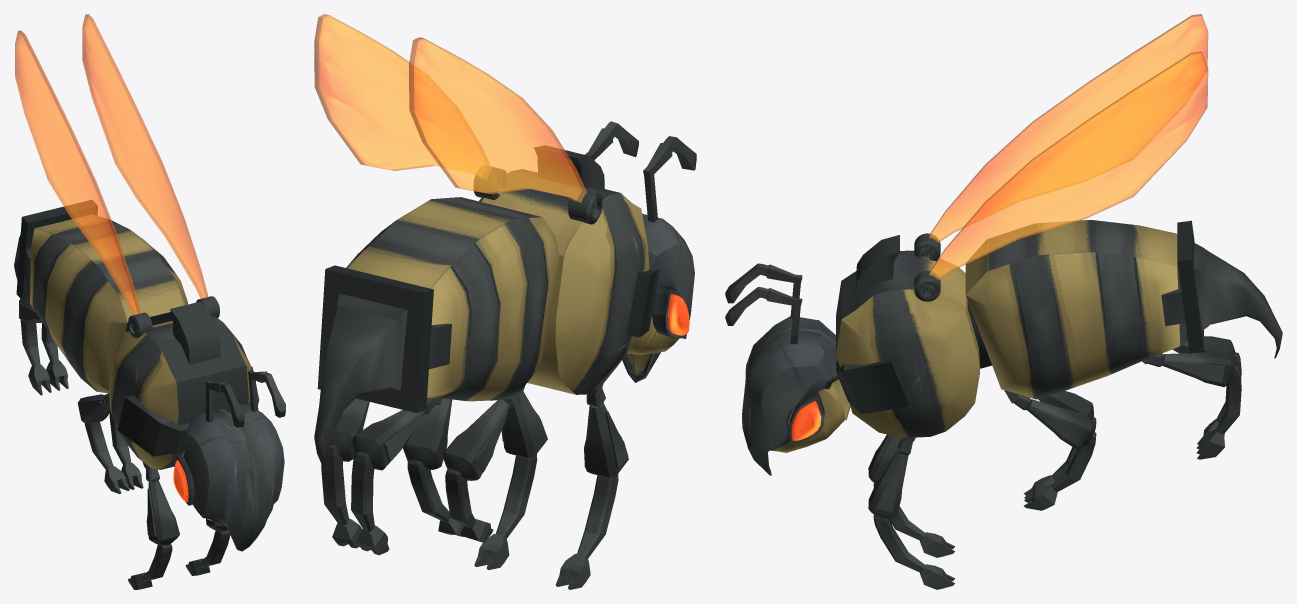
File: REAL BEE.fbx
3 views of the same model, side by side, from view 1: azimuth 30°, elevation 25°; view 2: azimuth 150°, elevation 25°; view 3: azimuth 270°, elevation 25° (orthographic). The views are drawn at different scales.
Parts seen in each view (by area): view 1: 1lowerbody, 1wings, 1torsp, 1head, 3legl, 4legl, 2antenna, 5legl, 3legr, 4legr, 5legr; view 2: 1lowerbody, 1wings, 1torsp, 1head, 3legl, 5legl, 3legr, 4legl, 4legr, 5legr, 2antenna; view 3: 1lowerbody, 1wings, 1torsp, 1head, 4legr, 3legr, 5legr, 2antenna, 3legl, 4legl, 5legl.
Boxes of the visible parts, x1,y1,x2,y2 form: 1lowerbody: [14, 200, 187, 393]; 1wings: [15, 14, 208, 315]; 1torsp: [109, 296, 259, 469]; 1head: [173, 404, 284, 551]; 3legl: [128, 461, 179, 589]; 4legl: [77, 393, 129, 493]; 2antenna: [205, 370, 285, 427]; 5legl: [19, 299, 51, 395]; 3legr: [185, 518, 230, 575]; 4legr: [108, 393, 143, 489]; 5legr: [41, 323, 68, 390]; 1lowerbody: [314, 197, 559, 465]; 1wings: [314, 14, 586, 202]; 1torsp: [473, 145, 659, 394]; 1head: [622, 214, 694, 382]; 3legl: [555, 383, 628, 589]; 5legl: [351, 398, 442, 555]; 3legr: [474, 391, 547, 569]; 4legl: [442, 386, 524, 542]; 4legr: [402, 398, 463, 536]; 5legr: [321, 398, 369, 548]; 2antenna: [585, 121, 696, 222]; 1lowerbody: [965, 220, 1282, 399]; 1wings: [928, 14, 1208, 279]; 1torsp: [836, 233, 979, 438]; 1head: [742, 316, 850, 475]; 4legr: [1004, 390, 1096, 510]; 3legr: [868, 436, 954, 589]; 5legr: [1142, 351, 1241, 459]; 2antenna: [725, 263, 802, 344]; 3legl: [868, 434, 954, 557]; 4legl: [1023, 391, 1096, 498]; 5legl: [1172, 336, 1241, 449].
Size of the model in its own units: 61.79 by 220 by 207.
